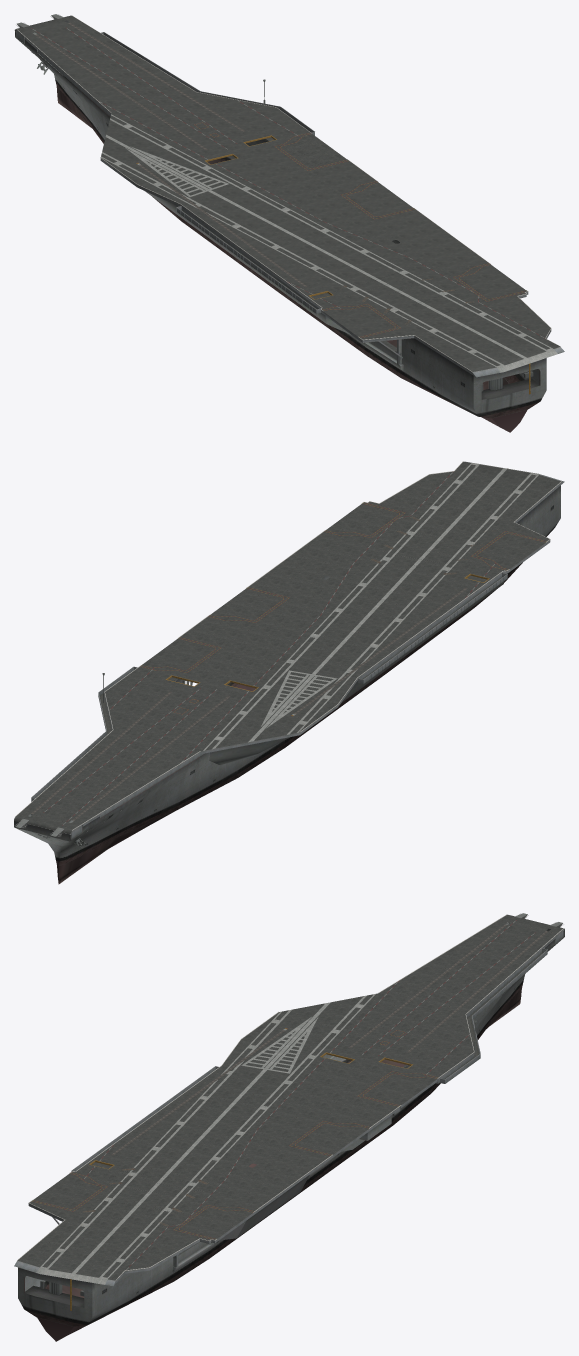
File: Aircraft_Carrier_Finish_Point.FBX
3 renders of one model, top to bottom at view 1: azimuth 30°, elevation 25°; view 2: azimuth 150°, elevation 25°; view 3: azimuth 330°, elevation 25°, orthographic. The views are drawn at different scales.
Parts seen in each view (by area): view 1: Aircraft_Carrier-2; view 2: Aircraft_Carrier-2; view 3: Aircraft_Carrier-2.
Part boxes in pixels (x1,y1,x2,y2): Aircraft_Carrier-2: [14, 14, 564, 432]; Aircraft_Carrier-2: [14, 461, 564, 884]; Aircraft_Carrier-2: [14, 913, 564, 1341].
Size of the model in its own units: 76.76 by 36.97 by 338.
4 materials, 4 textured.
